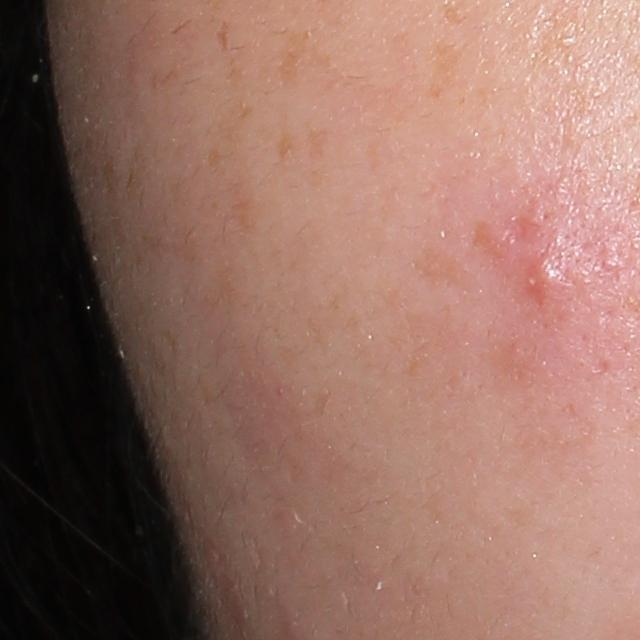atrophic_scar: (496, 210, 545, 247)
melasma: (205, 56, 256, 167), (277, 27, 333, 92), (424, 35, 464, 104), (304, 124, 335, 162), (276, 128, 301, 167), (439, 0, 471, 27), (216, 17, 231, 51)
papule: (518, 248, 562, 308)
